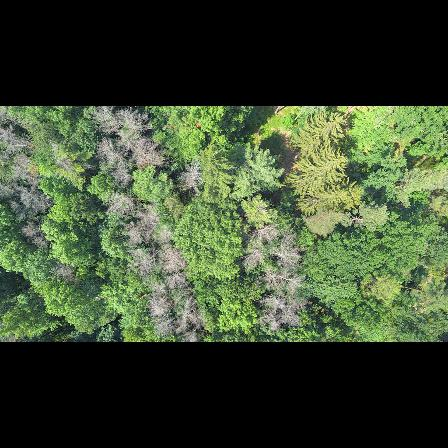Dead: (17, 182, 59, 216), (258, 294, 300, 327), (180, 156, 210, 200), (102, 107, 151, 133), (253, 265, 298, 293), (101, 138, 129, 183), (131, 137, 167, 167), (1, 128, 34, 158), (176, 300, 203, 336), (116, 222, 157, 244), (130, 247, 158, 278), (246, 224, 285, 245), (105, 186, 133, 215), (134, 200, 164, 226), (160, 244, 186, 272), (49, 261, 74, 284), (148, 292, 170, 317), (273, 245, 300, 262), (242, 248, 266, 266), (166, 273, 187, 290), (21, 218, 38, 237), (154, 315, 173, 332), (30, 234, 49, 249)
